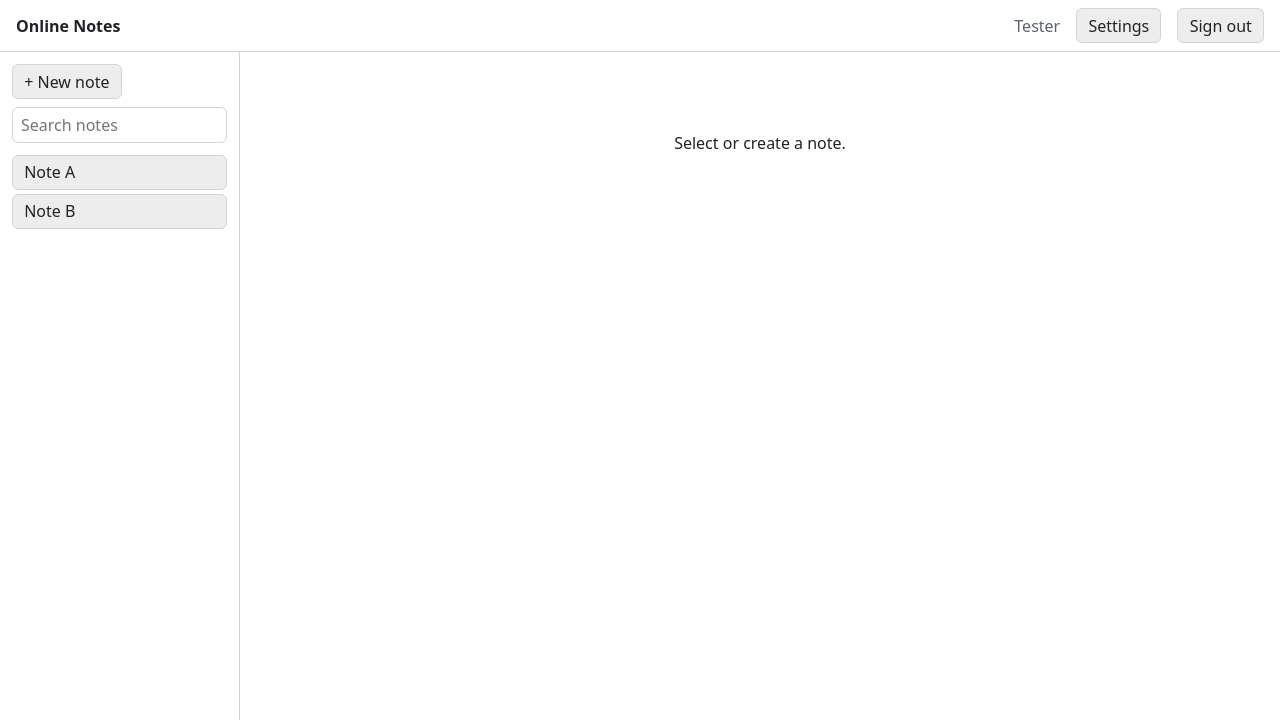
it: revision-aware deletion — what the user sees › deleting again after reviewing needs a new confirmation and uses the revision that was reviewed
Click the button "Note A". click: [120, 172]
box: [12,155,227,190]
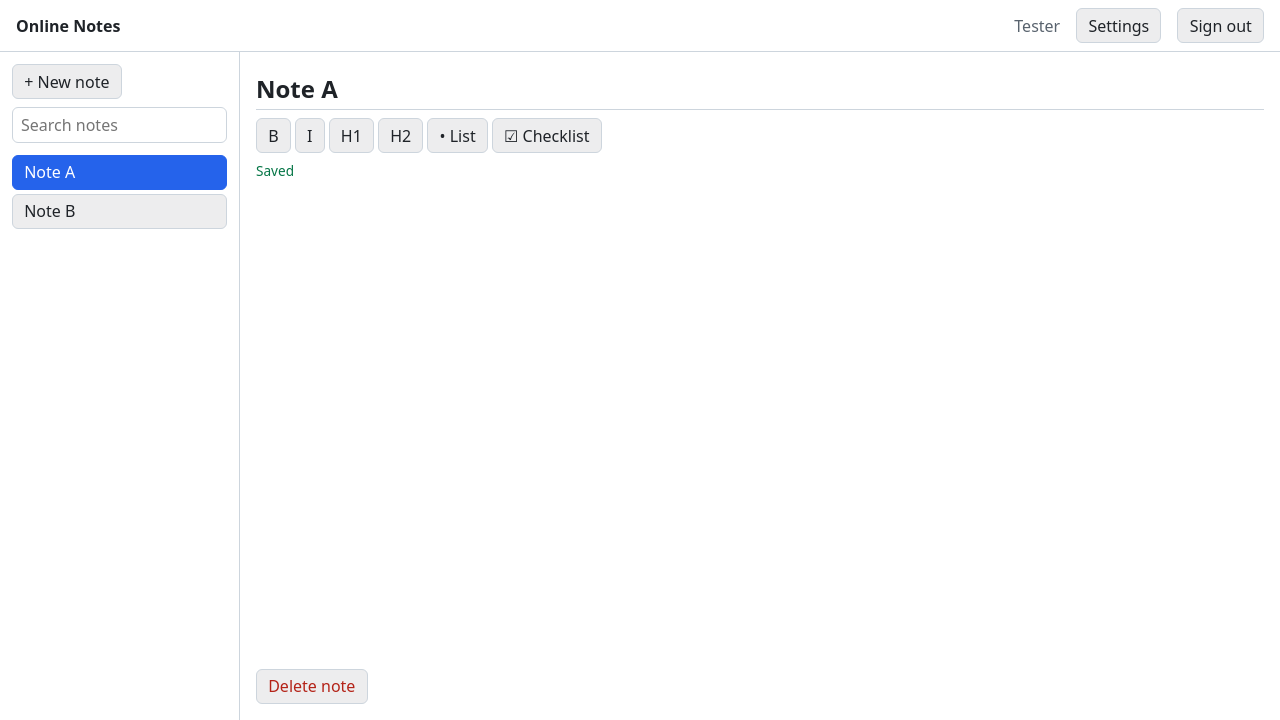
Click the button "Delete note". click: [312, 686]
box: [256,669,368,704]
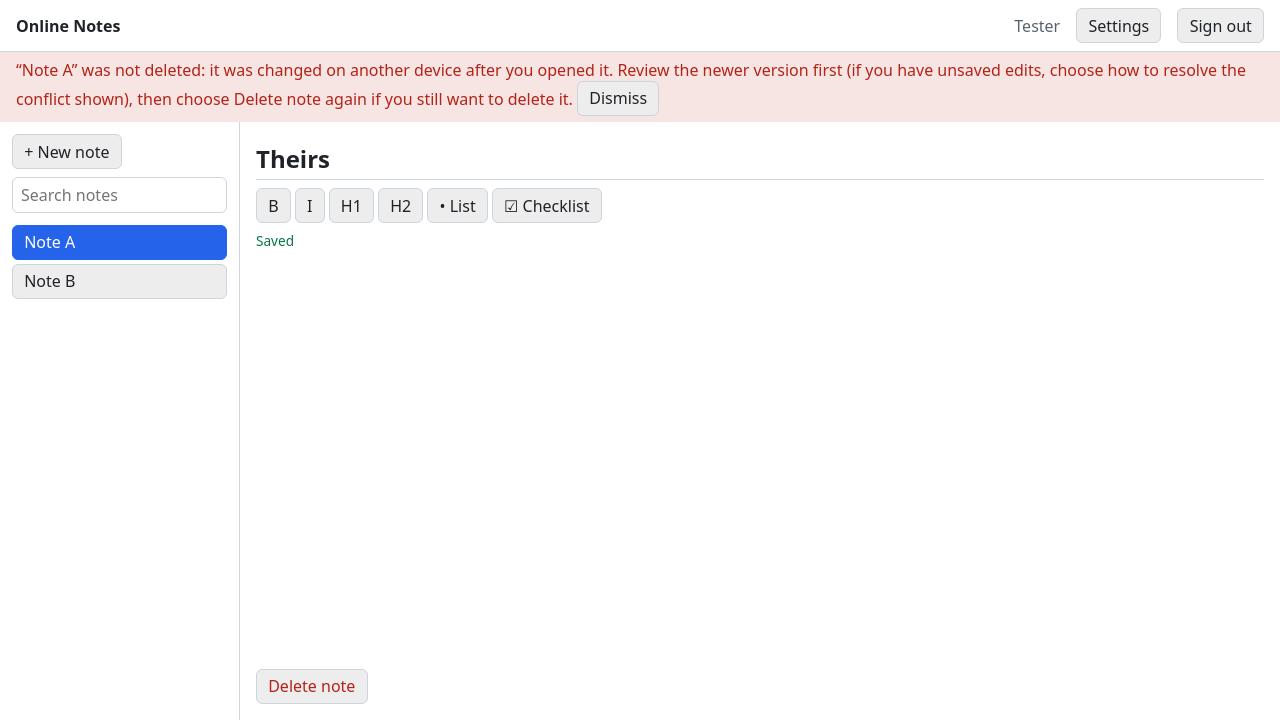
Click the button "Delete note". click: [312, 686]
box: [256,669,368,704]
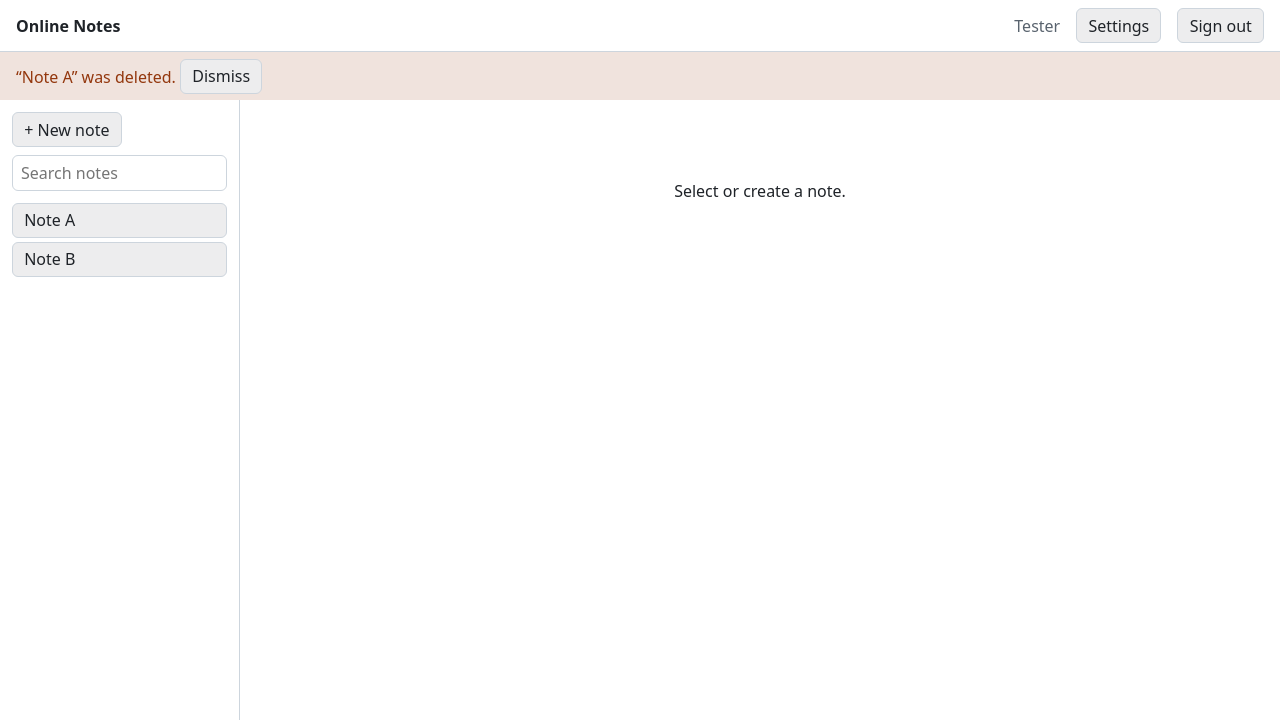
Result: the message with class "banner" shows "was deleted" at [16,65,176,87]
Result: the text "Select or create a note." is shown at [674,180,846,202]
